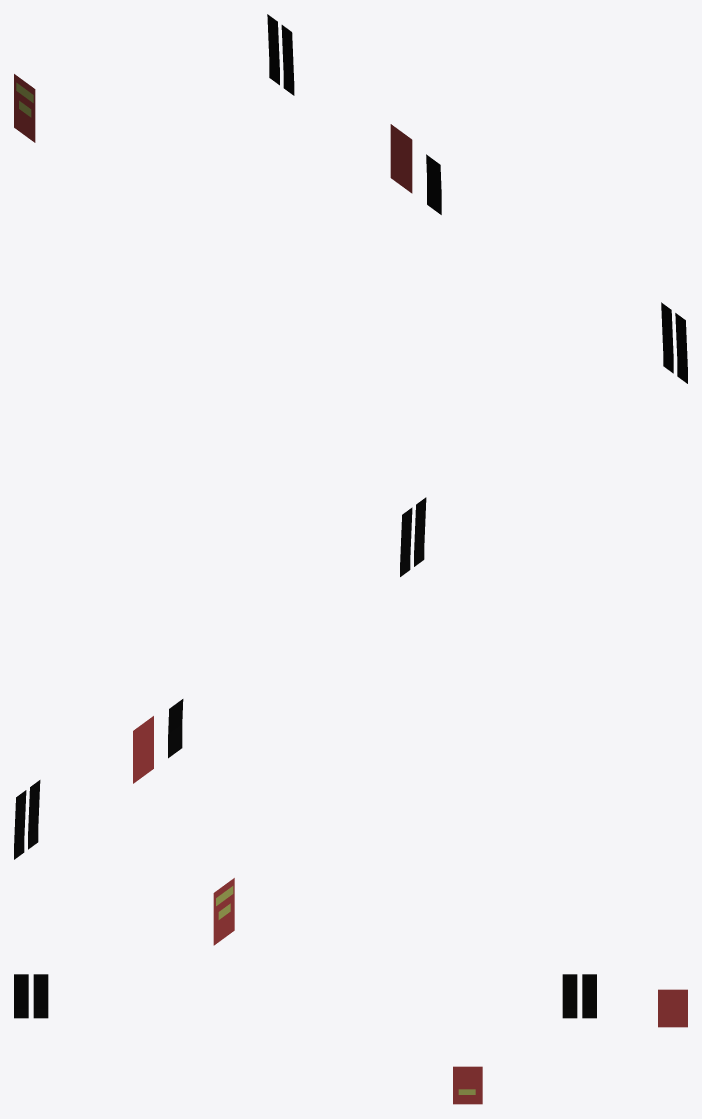
Rendered from lms-tpo-windows.dae.
The picture shows the model from 3 angles, top to bottom: view 1: azimuth 30°, elevation 25°; view 2: azimuth 150°, elevation 25°; view 3: azimuth 270°, elevation 25°; orthographic projection. The views are drawn at different scales.
Visible parts, largest first — view 1: Plane_518, Plane_504, Plane_510, Plane_016, Plane_015, Plane_014, Plane_013; view 2: Plane_518, Plane_504, Plane_510, Plane_013, Plane_014, Plane_015, Plane_016; view 3: Plane_504, Plane_518, Plane_006, Plane_005, Plane_007, Plane_004.
Boxes of the visible parts, <box> form: Plane_518: <box>390,124,412,193</box>; Plane_504: <box>14,74,35,142</box>; Plane_510: <box>426,154,441,214</box>; Plane_016: <box>281,25,294,95</box>; Plane_015: <box>267,14,279,85</box>; Plane_014: <box>661,302,673,373</box>; Plane_013: <box>675,313,687,383</box>; Plane_518: <box>133,716,153,783</box>; Plane_504: <box>213,878,234,945</box>; Plane_510: <box>168,699,183,758</box>; Plane_013: <box>414,497,426,566</box>; Plane_014: <box>400,507,412,576</box>; Plane_015: <box>14,790,26,859</box>; Plane_016: <box>28,780,40,849</box>; Plane_504: <box>658,989,687,1027</box>; Plane_518: <box>453,1066,482,1104</box>; Plane_006: <box>562,974,577,1018</box>; Plane_005: <box>33,974,48,1018</box>; Plane_007: <box>582,974,596,1018</box>; Plane_004: <box>14,974,28,1018</box>.
Size of the model in its own units: 2.22 by 8.08 by 0.7095.
